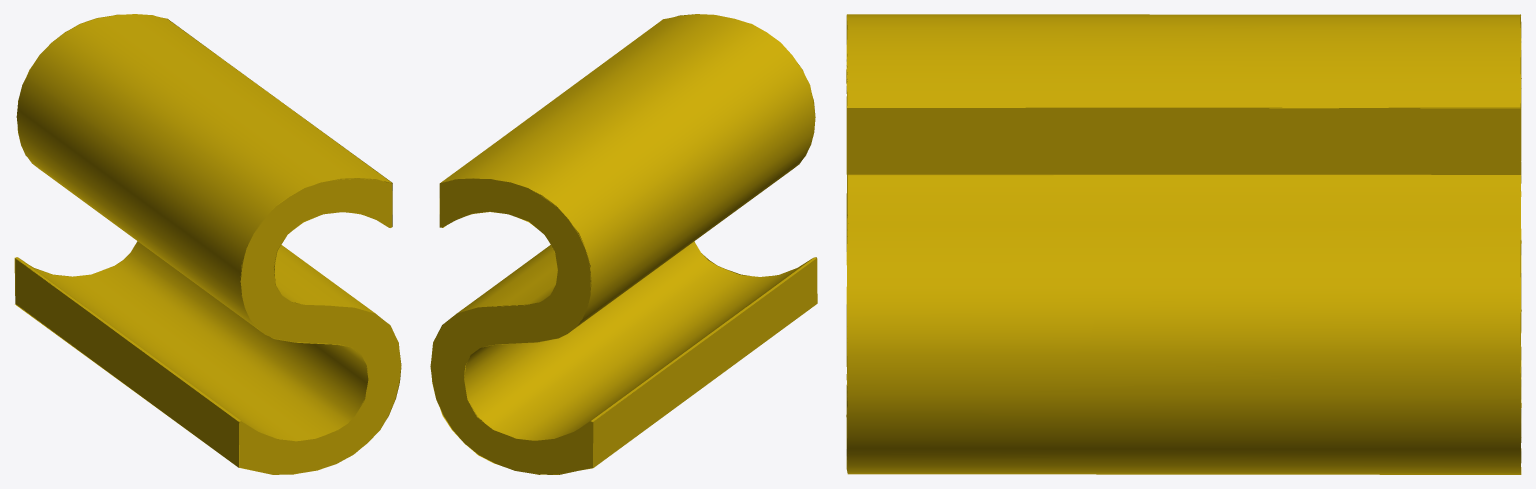
Rendered from original-1.obj.
3 views of the same model, side by side, from view 1: azimuth 30°, elevation 25°; view 2: azimuth 150°, elevation 25°; view 3: azimuth 270°, elevation 25° (orthographic). The views are drawn at different scales.
Parts seen in each view (by area): view 1: #ID5; view 2: #ID5; view 3: #ID5.
Part boxes in pixels (x1=…): #ID5: x1=14, y1=14, x2=401, y2=474; #ID5: x1=430, y1=14, x2=817, y2=474; #ID5: x1=846, y1=14, x2=1521, y2=474.
Bounding box in the file's own units: 0.0324 × 0.0547 × 0.0774.
